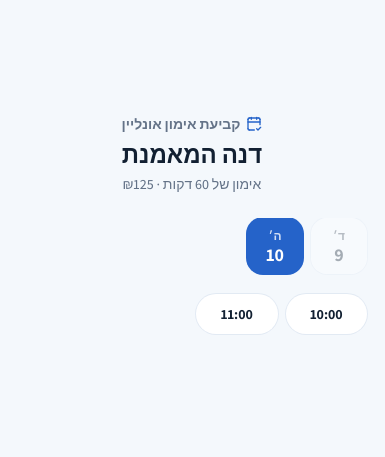
Test case: BookPage public booking journey › shows an error and refreshes availability when a slot was just taken
The width and height of the screenshot is (385, 457).
Click the button "10:00": point(326, 314) 286,294 -> 367,334
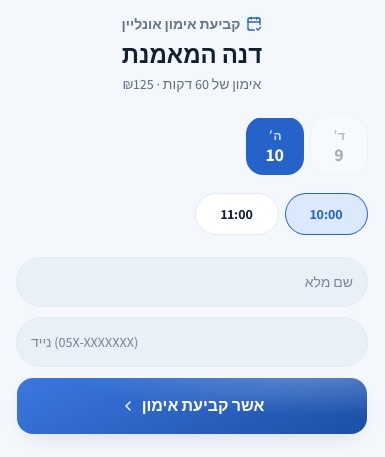
In the field with placeholder "שם מלא": point(192, 282) 17,258 -> 367,306, type "יוסי"
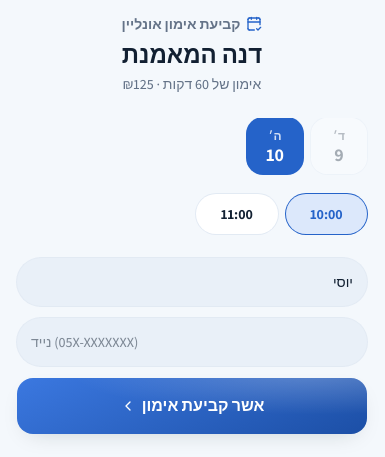
In the field with placeholder "נייד (05X-XXXXXXX)": point(192, 342) 17,318 -> 367,366, type "0501234567"
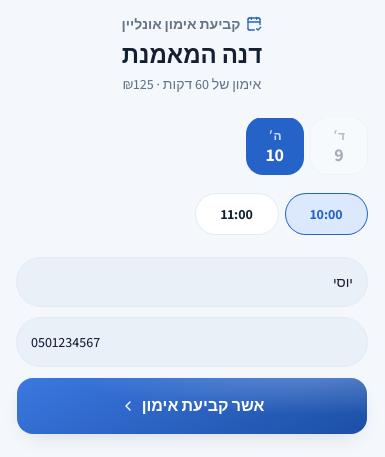
Click the button "אשר קביעת אימון": point(192, 406) 17,378 -> 367,434
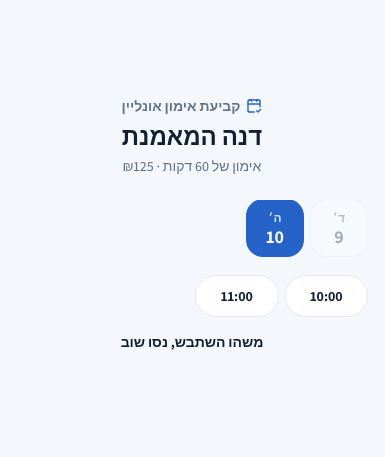
Now the message reads "משהו השתבש, נסו שוב", box 121,333 -> 263,351
Now the button "אשר קביעת אימון" is gone
